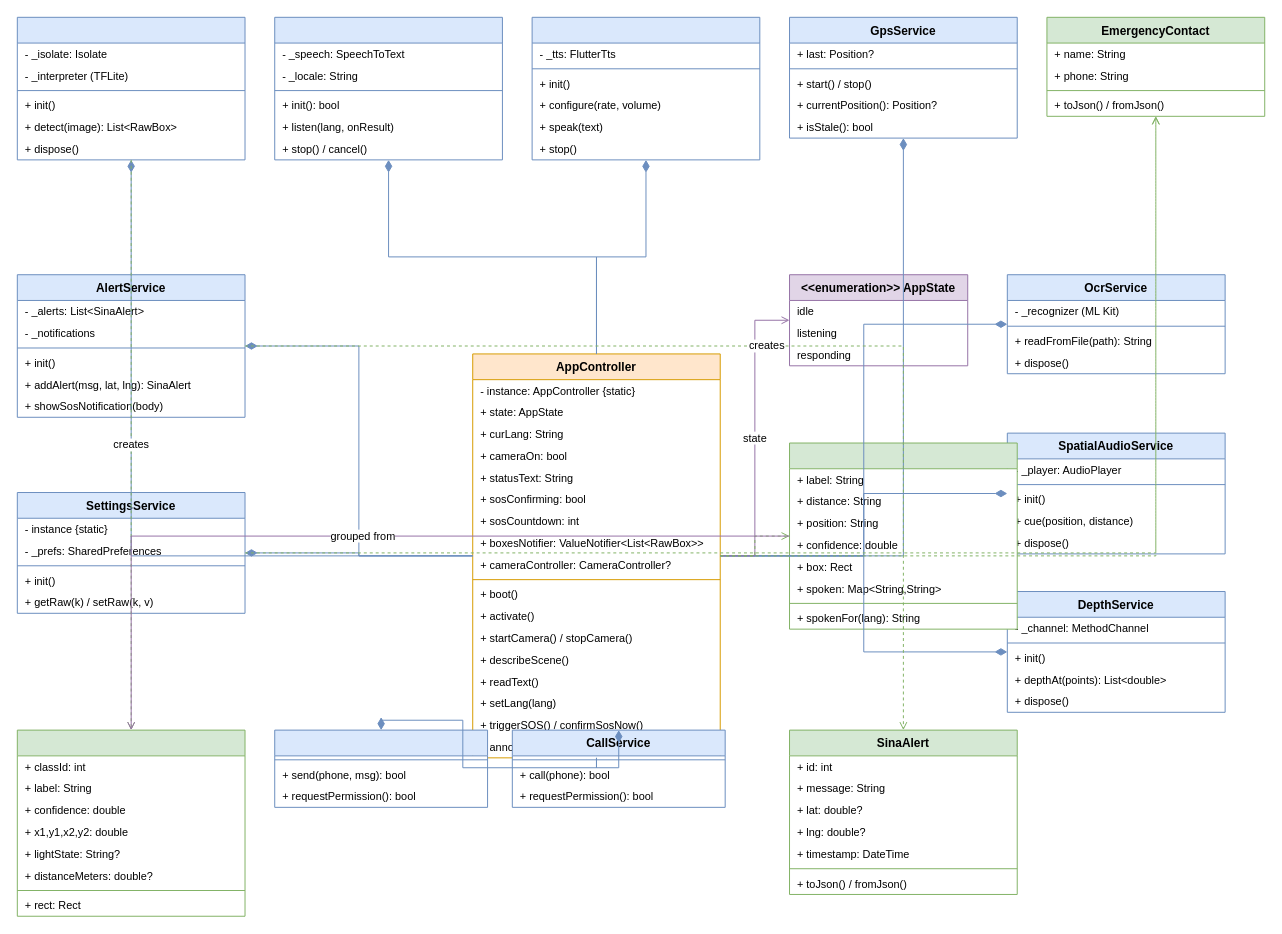
The diagram is 1282 pixels wide and 934 high, and some of its shapes have lost their labels. The shapes that lost their labels are listed below. From the top down, each one's box as (x1, y1, x2, y2) in pixels, then its label:
(16, 16, 245, 160): DetectorService
(274, 16, 502, 160): SttService
(531, 16, 760, 160): TtsService
(789, 442, 1017, 629): Detection
(274, 729, 488, 807): SmsService
(16, 729, 245, 916): RawBox
